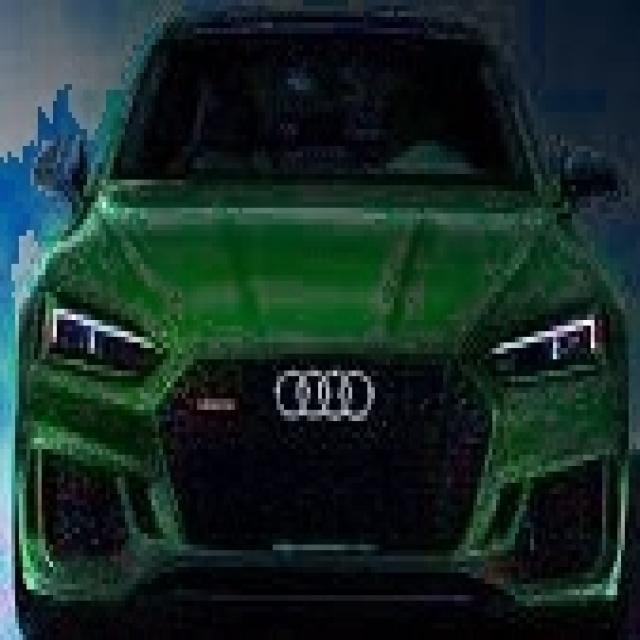green: (15, 2, 636, 632)
